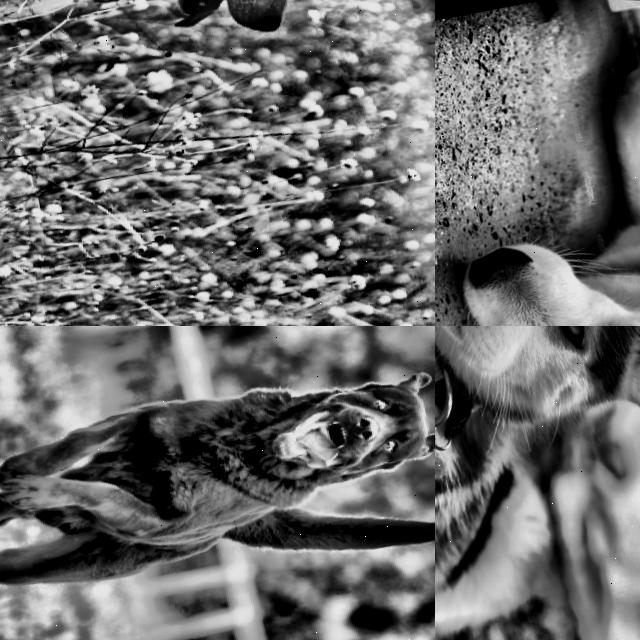husky: (435, 154, 640, 326), (435, 326, 640, 493), (44, 0, 435, 85)
rottweiler: (207, 327, 435, 522)
